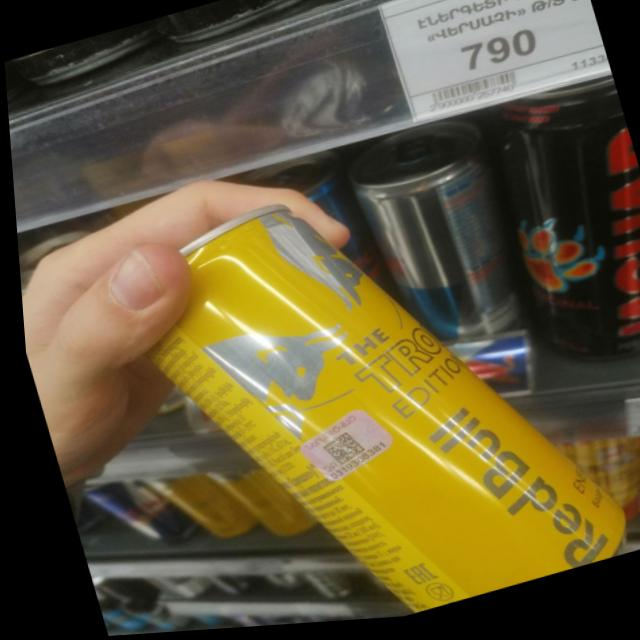datamatrix: (311, 429, 366, 474)
